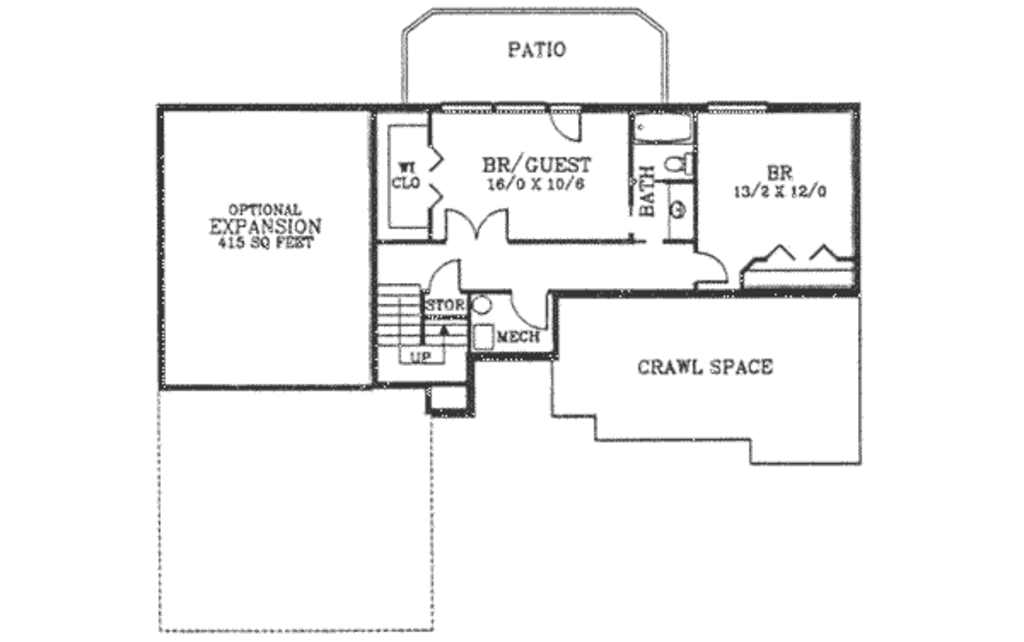door: (441, 204, 517, 243), (508, 291, 554, 334), (421, 254, 469, 294), (694, 247, 731, 292), (544, 106, 585, 146)
large_sink: (661, 146, 700, 178)
small_sink: (666, 184, 691, 246)
stairs: (372, 283, 470, 390)
tub: (630, 115, 695, 145)
window: (703, 98, 769, 117), (441, 101, 494, 116)
